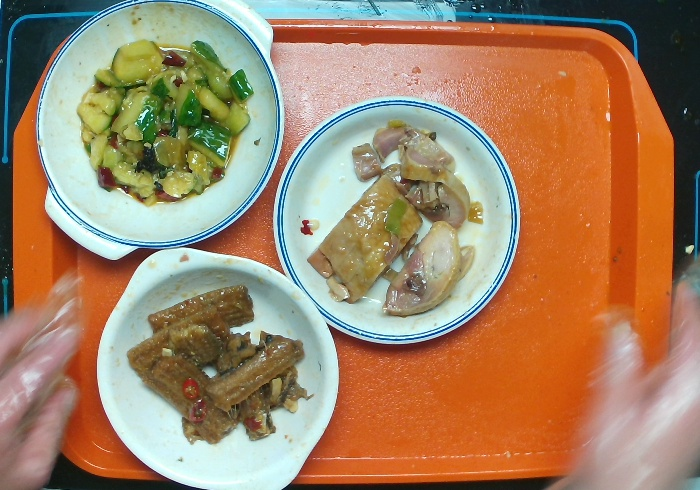HZYJPL-Dai_Er_Bai_Yuan_Wan: (95, 245, 341, 490)
HZYJPL-Lan_Bian_Dai_Er_Wan: (33, 1, 286, 261)
HZYJPL-Lan_Bian_Yuan_Die: (270, 93, 522, 346)
